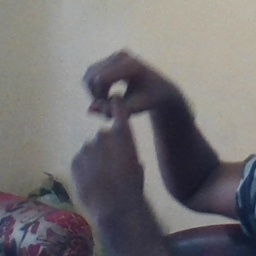Q: (63, 47, 166, 185)
